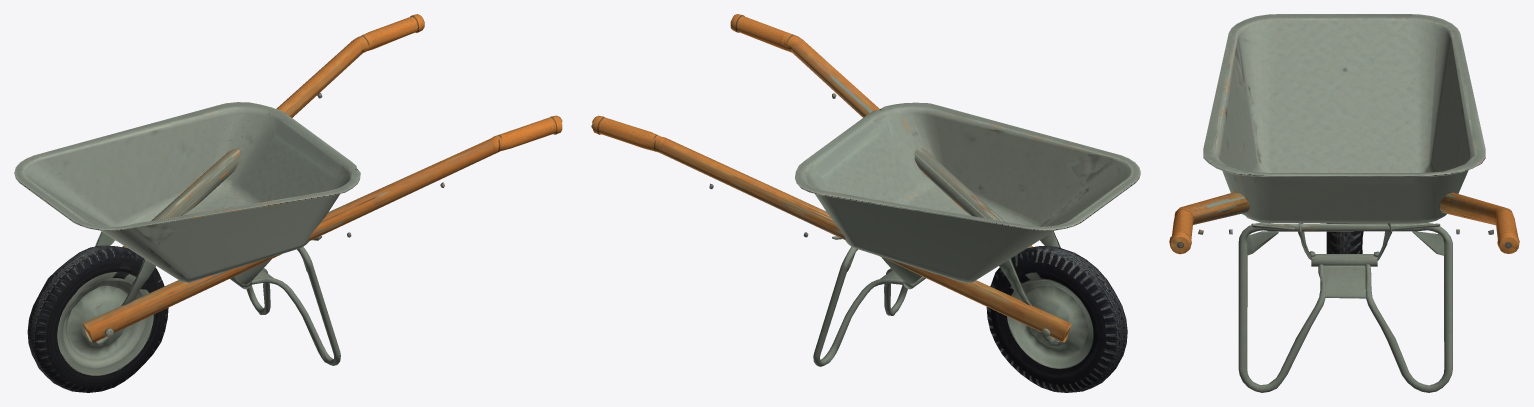
Rendered from wheelbarrow.glb.
3 renders of one model, left to right at view 1: azimuth 30°, elevation 25°; view 2: azimuth 150°, elevation 25°; view 3: azimuth 270°, elevation 25°, orthographic. The views are drawn at different scales.
Visible parts, largest first — view 1: wheelbarrow; view 2: wheelbarrow; view 3: wheelbarrow.
Part boxes in pixels (<box>): wheelbarrow: <box>14,14,562,392</box>; wheelbarrow: <box>591,14,1140,392</box>; wheelbarrow: <box>1169,14,1519,392</box>.
Size of the model in its own units: 1.57 by 0.75 by 0.8766.
Materials: 1 (1 with a texture image).
